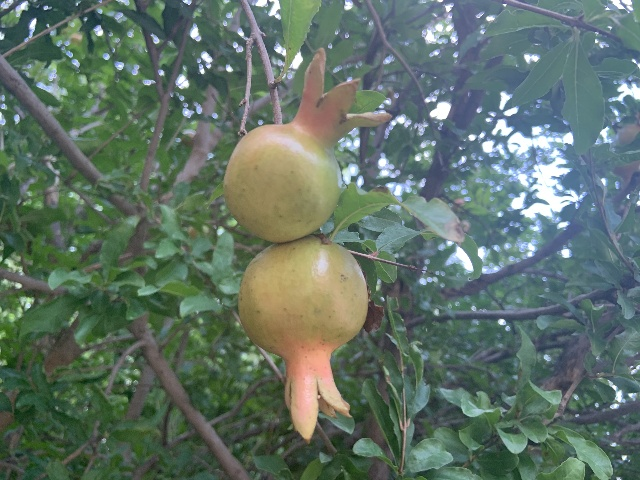mid-growth: (224, 47, 393, 242), (237, 237, 371, 443)
